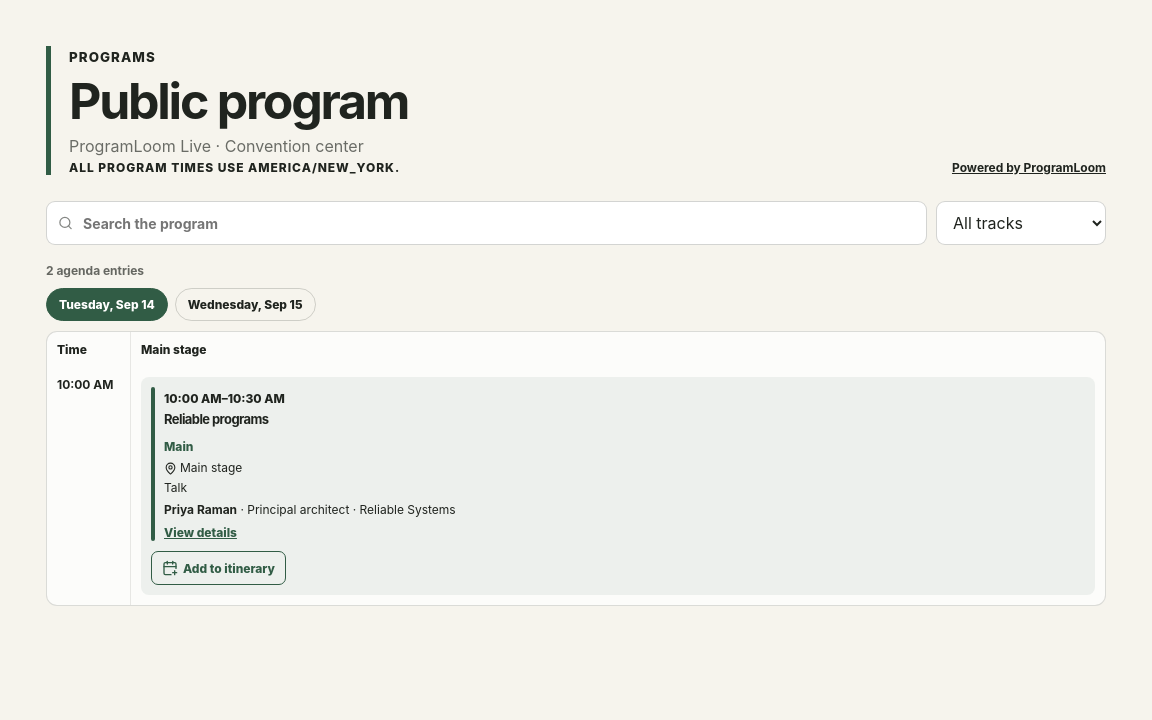
Test: public widgets › renders an accessible multi-day agenda grid with detail and itinerary controls
Expected: the table is shown, [46,331,1106,606]
Expected: the number of tabs is 2, [46,288,168,321]; [175,288,316,321]
Click the button "View details" at [200, 533], box [164,525,237,540]
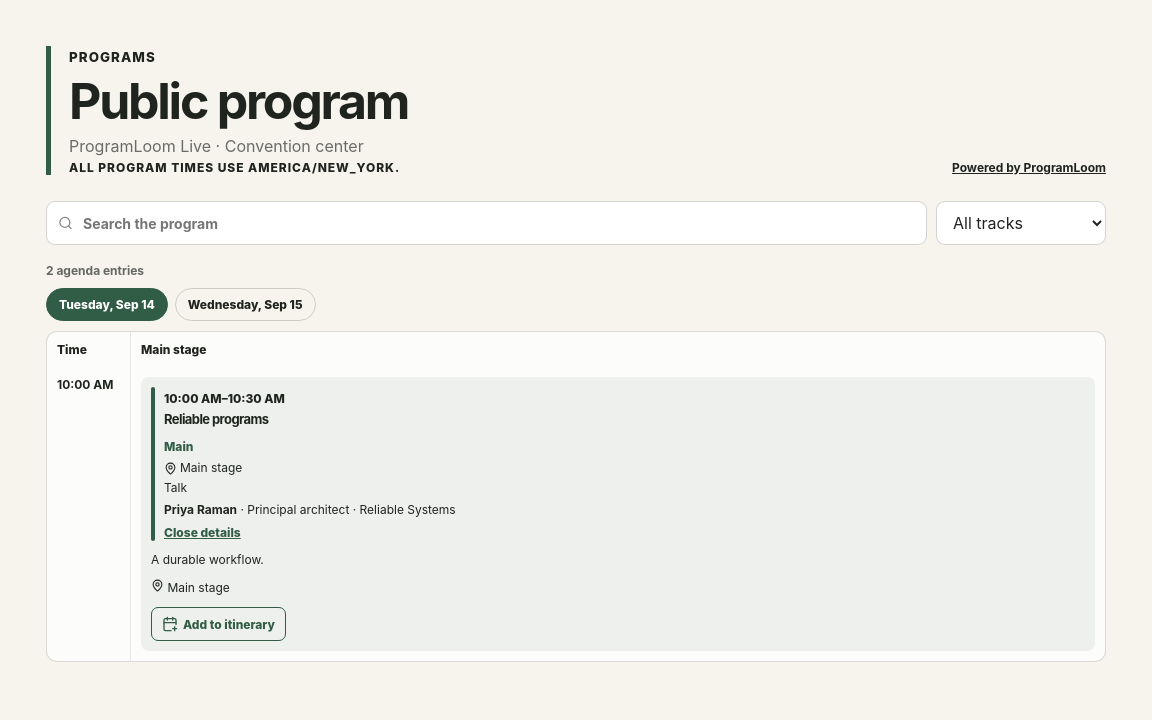
Expected: the text "Priya Raman · Principal architect · Reliable Systems" is shown, [164,502,456,518]
Now the text "A durable workflow." is shown, box [151,552,264,567]
Now the button "Close details" is shown, box [164,525,241,540]
Click the button "Add to itinerary" at [218, 624], box [151,607,286,641]
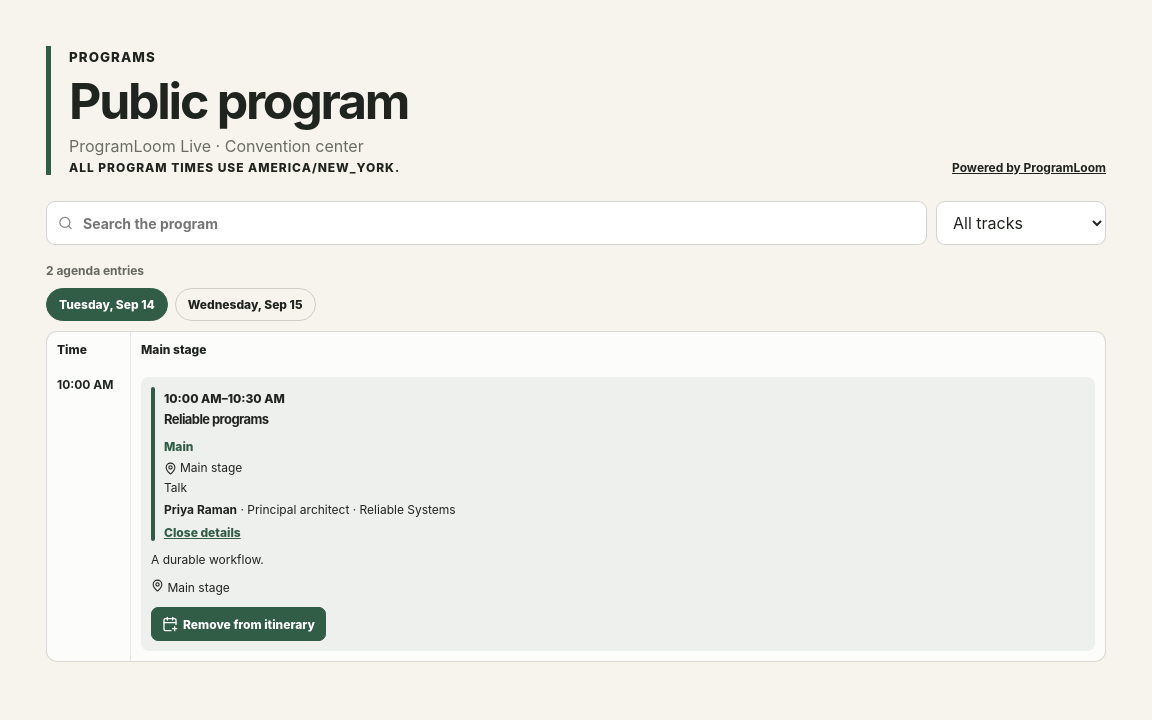
Click the tab "Wednesday, Sep 15" at [245, 304], box [175,288,316,321]
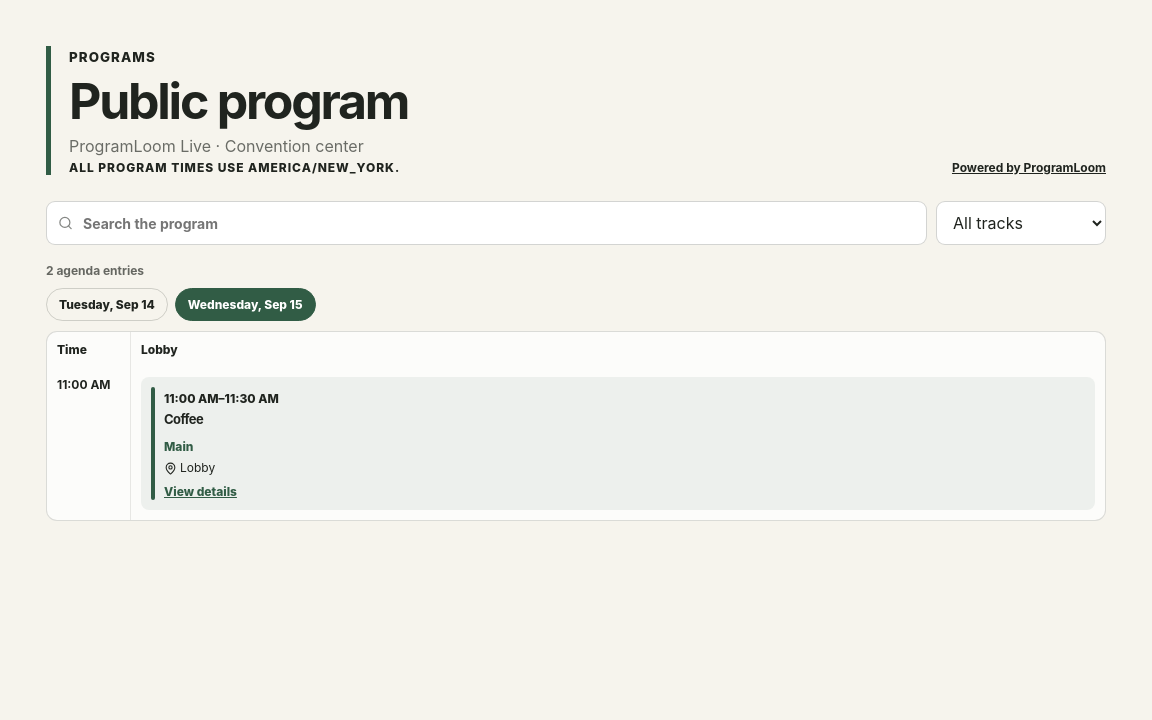
Now the column heading "Lobby" is shown, box [131,332,1105,367]
